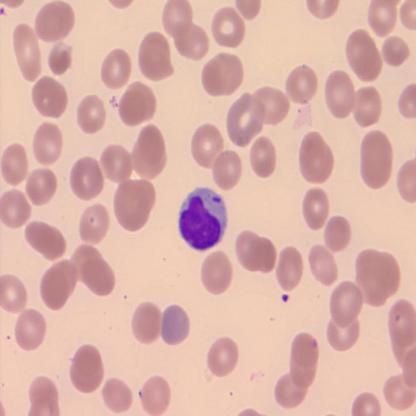Lymphocyte: (177, 186, 229, 252)
